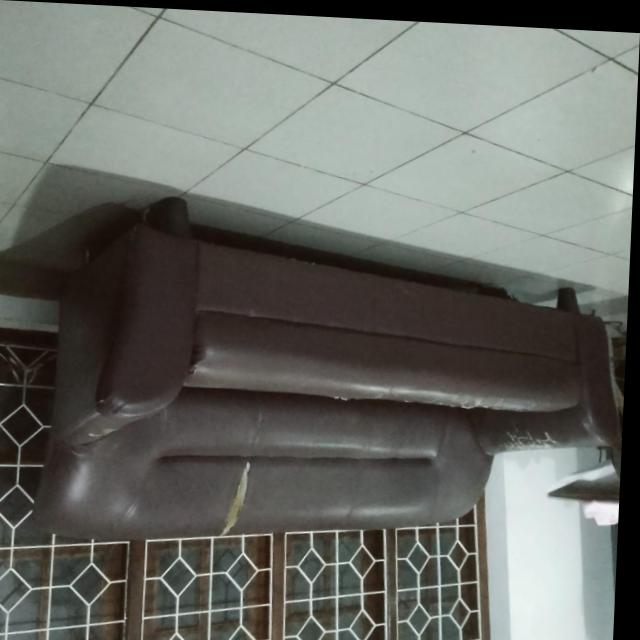Sofa: (33, 193, 626, 559)
